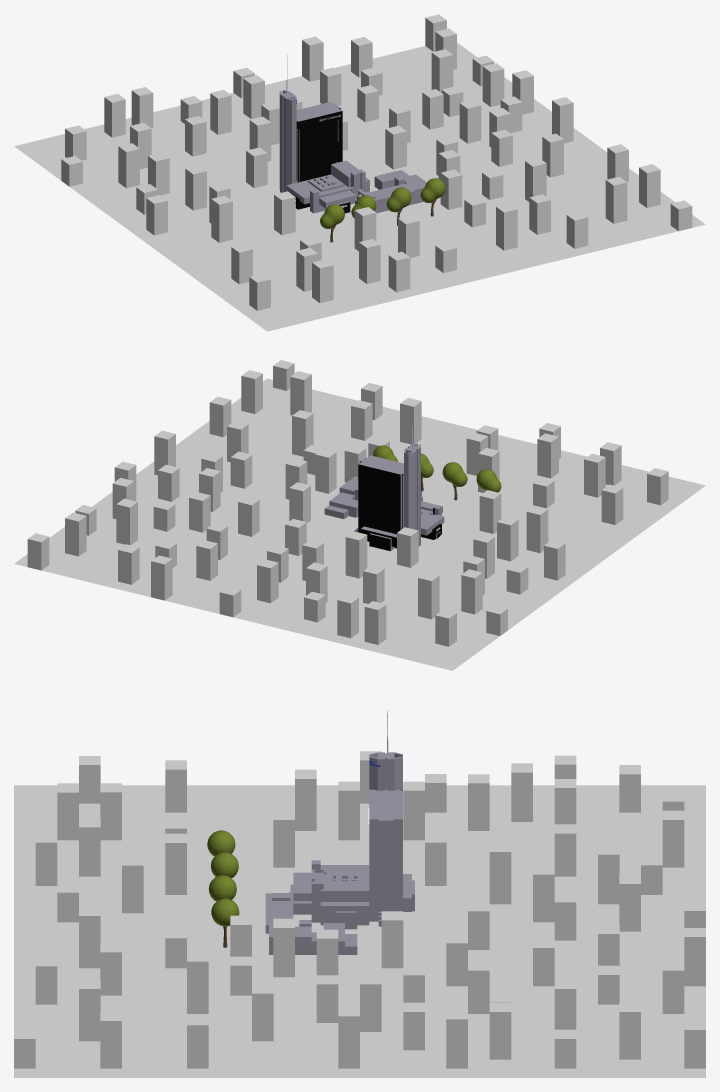
The model's file is bbva.glb.
3 views of the same model, one above another, from view 1: azimuth 30°, elevation 25°; view 2: azimuth 150°, elevation 25°; view 3: azimuth 270°, elevation 25° (orthographic). The views are drawn at different scales.
Parts seen in each view (by area): view 1: Plane, bbva, Cube.008, Tree_4, Tree_4.003; view 2: Plane, bbva, Cube.008, Tree_4.002; view 3: Plane, bbva, Cube.008, Tree_4, Tree_4.001, Tree_4.002.
Part boxes in pixels (box(x1,y1,x2,y2)): Plane: box(14, 14, 705, 331); bbva: box(286, 102, 426, 213); Cube.008: box(279, 90, 296, 192); Tree_4: box(420, 178, 445, 216); Tree_4.003: box(320, 204, 344, 242); Plane: box(14, 360, 705, 670); bbva: box(324, 455, 444, 551); Cube.008: box(404, 443, 420, 546); Tree_4.002: box(442, 462, 467, 500); Plane: box(14, 751, 705, 1077); bbva: box(265, 789, 414, 954); Cube.008: box(369, 752, 402, 790); Tree_4: box(211, 898, 239, 947); Tree_4.001: box(208, 875, 236, 901); Tree_4.002: box(210, 852, 238, 878).
Bounding box in the file's own units: 15.8 × 4.8 × 15.8.
